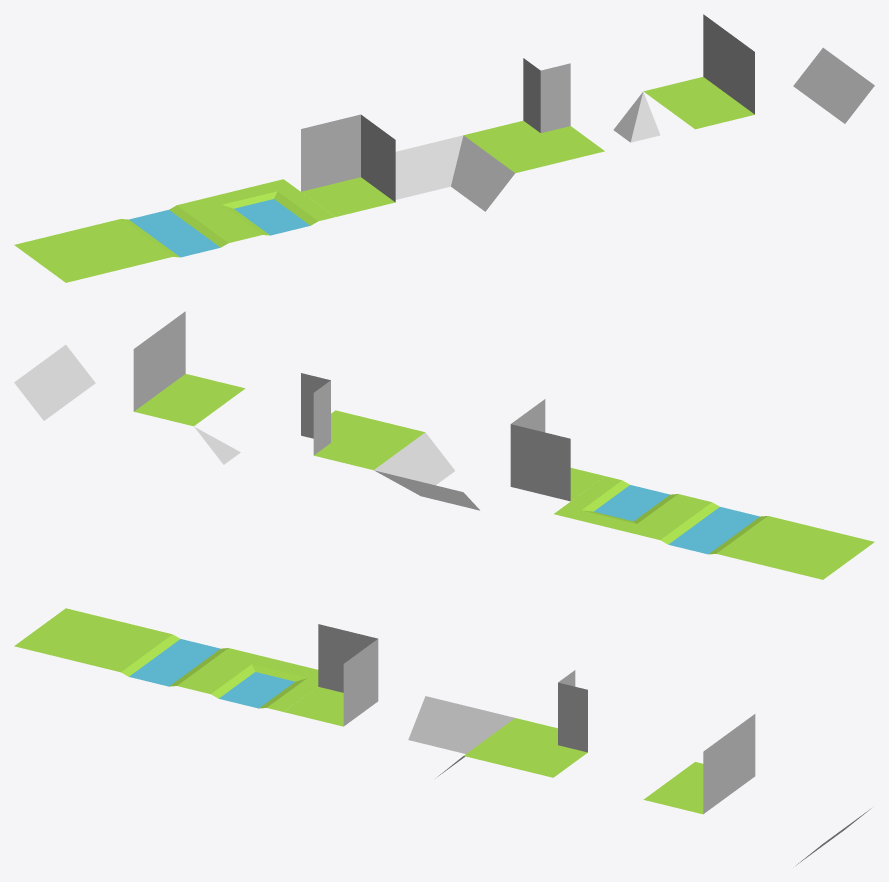
File: 3DTiles_V05.fbx
The picture shows the model from 3 angles, top to bottom: view 1: azimuth 30°, elevation 25°; view 2: azimuth 150°, elevation 25°; view 3: azimuth 330°, elevation 25°; orthographic projection.
Parts seen in each view (by area): view 1: Plane.003, Plane.005, Plane.007, Plane.004, Plane.002, Plane, Plane.001, Plane.008, Plane.006; view 2: Plane.007, Plane.005, Plane.003, Plane, Plane.001, Plane.002, Plane.004, Plane.008, Plane.006; view 3: Plane.005, Plane.003, Plane.007, Plane, Plane.001, Plane.002, Plane.004.
Boxes of the visible parts, x1=… form: Plane.003: x1=301, y1=114, x2=395, y2=216; Plane.005: x1=464, y1=58, x2=604, y2=172; Plane.007: x1=643, y1=14, x2=754, y2=129; Plane.004: x1=395, y1=135, x2=515, y2=211; Plane.002: x1=194, y1=179, x2=334, y2=238; Plane: x1=14, y1=223, x2=155, y2=282; Plane.001: x1=104, y1=201, x2=244, y2=260; Plane.008: x1=793, y1=47, x2=874, y2=123; Plane.006: x1=613, y1=92, x2=660, y2=142; Plane.007: x1=133, y1=311, x2=245, y2=426; Plane.005: x1=301, y1=373, x2=424, y2=469; Plane.003: x1=510, y1=399, x2=604, y2=501; Plane: x1=733, y1=520, x2=874, y2=579; Plane.001: x1=644, y1=498, x2=784, y2=557; Plane.002: x1=554, y1=476, x2=694, y2=535; Plane.004: x1=374, y1=432, x2=479, y2=510; Plane.008: x1=14, y1=344, x2=95, y2=420; Plane.006: x1=194, y1=426, x2=240, y2=464; Plane.005: x1=464, y1=670, x2=587, y2=777; Plane.003: x1=284, y1=624, x2=378, y2=726; Plane.007: x1=643, y1=714, x2=755, y2=814; Plane: x1=14, y1=608, x2=155, y2=667; Plane.001: x1=104, y1=630, x2=245, y2=689; Plane.002: x1=194, y1=652, x2=318, y2=711; Plane.004: x1=408, y1=696, x2=514, y2=778.
Size of the model in its own units: 9 by 0.9999 by 1.
